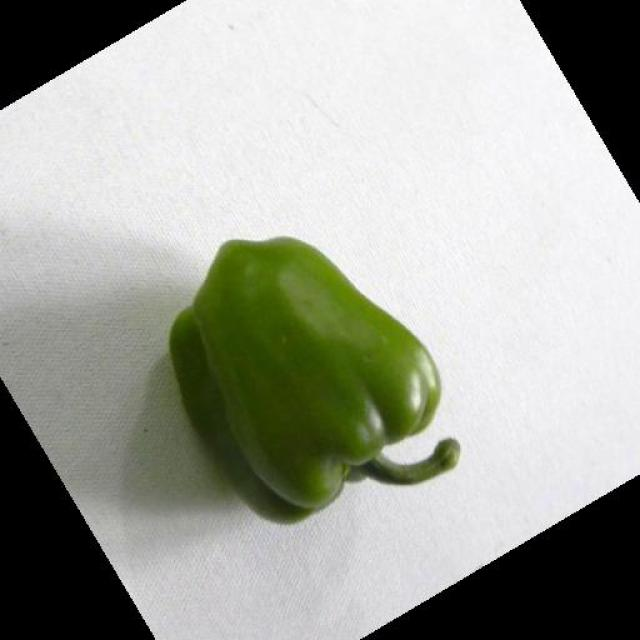Fresh_Capsicum: (128, 263, 463, 501)
